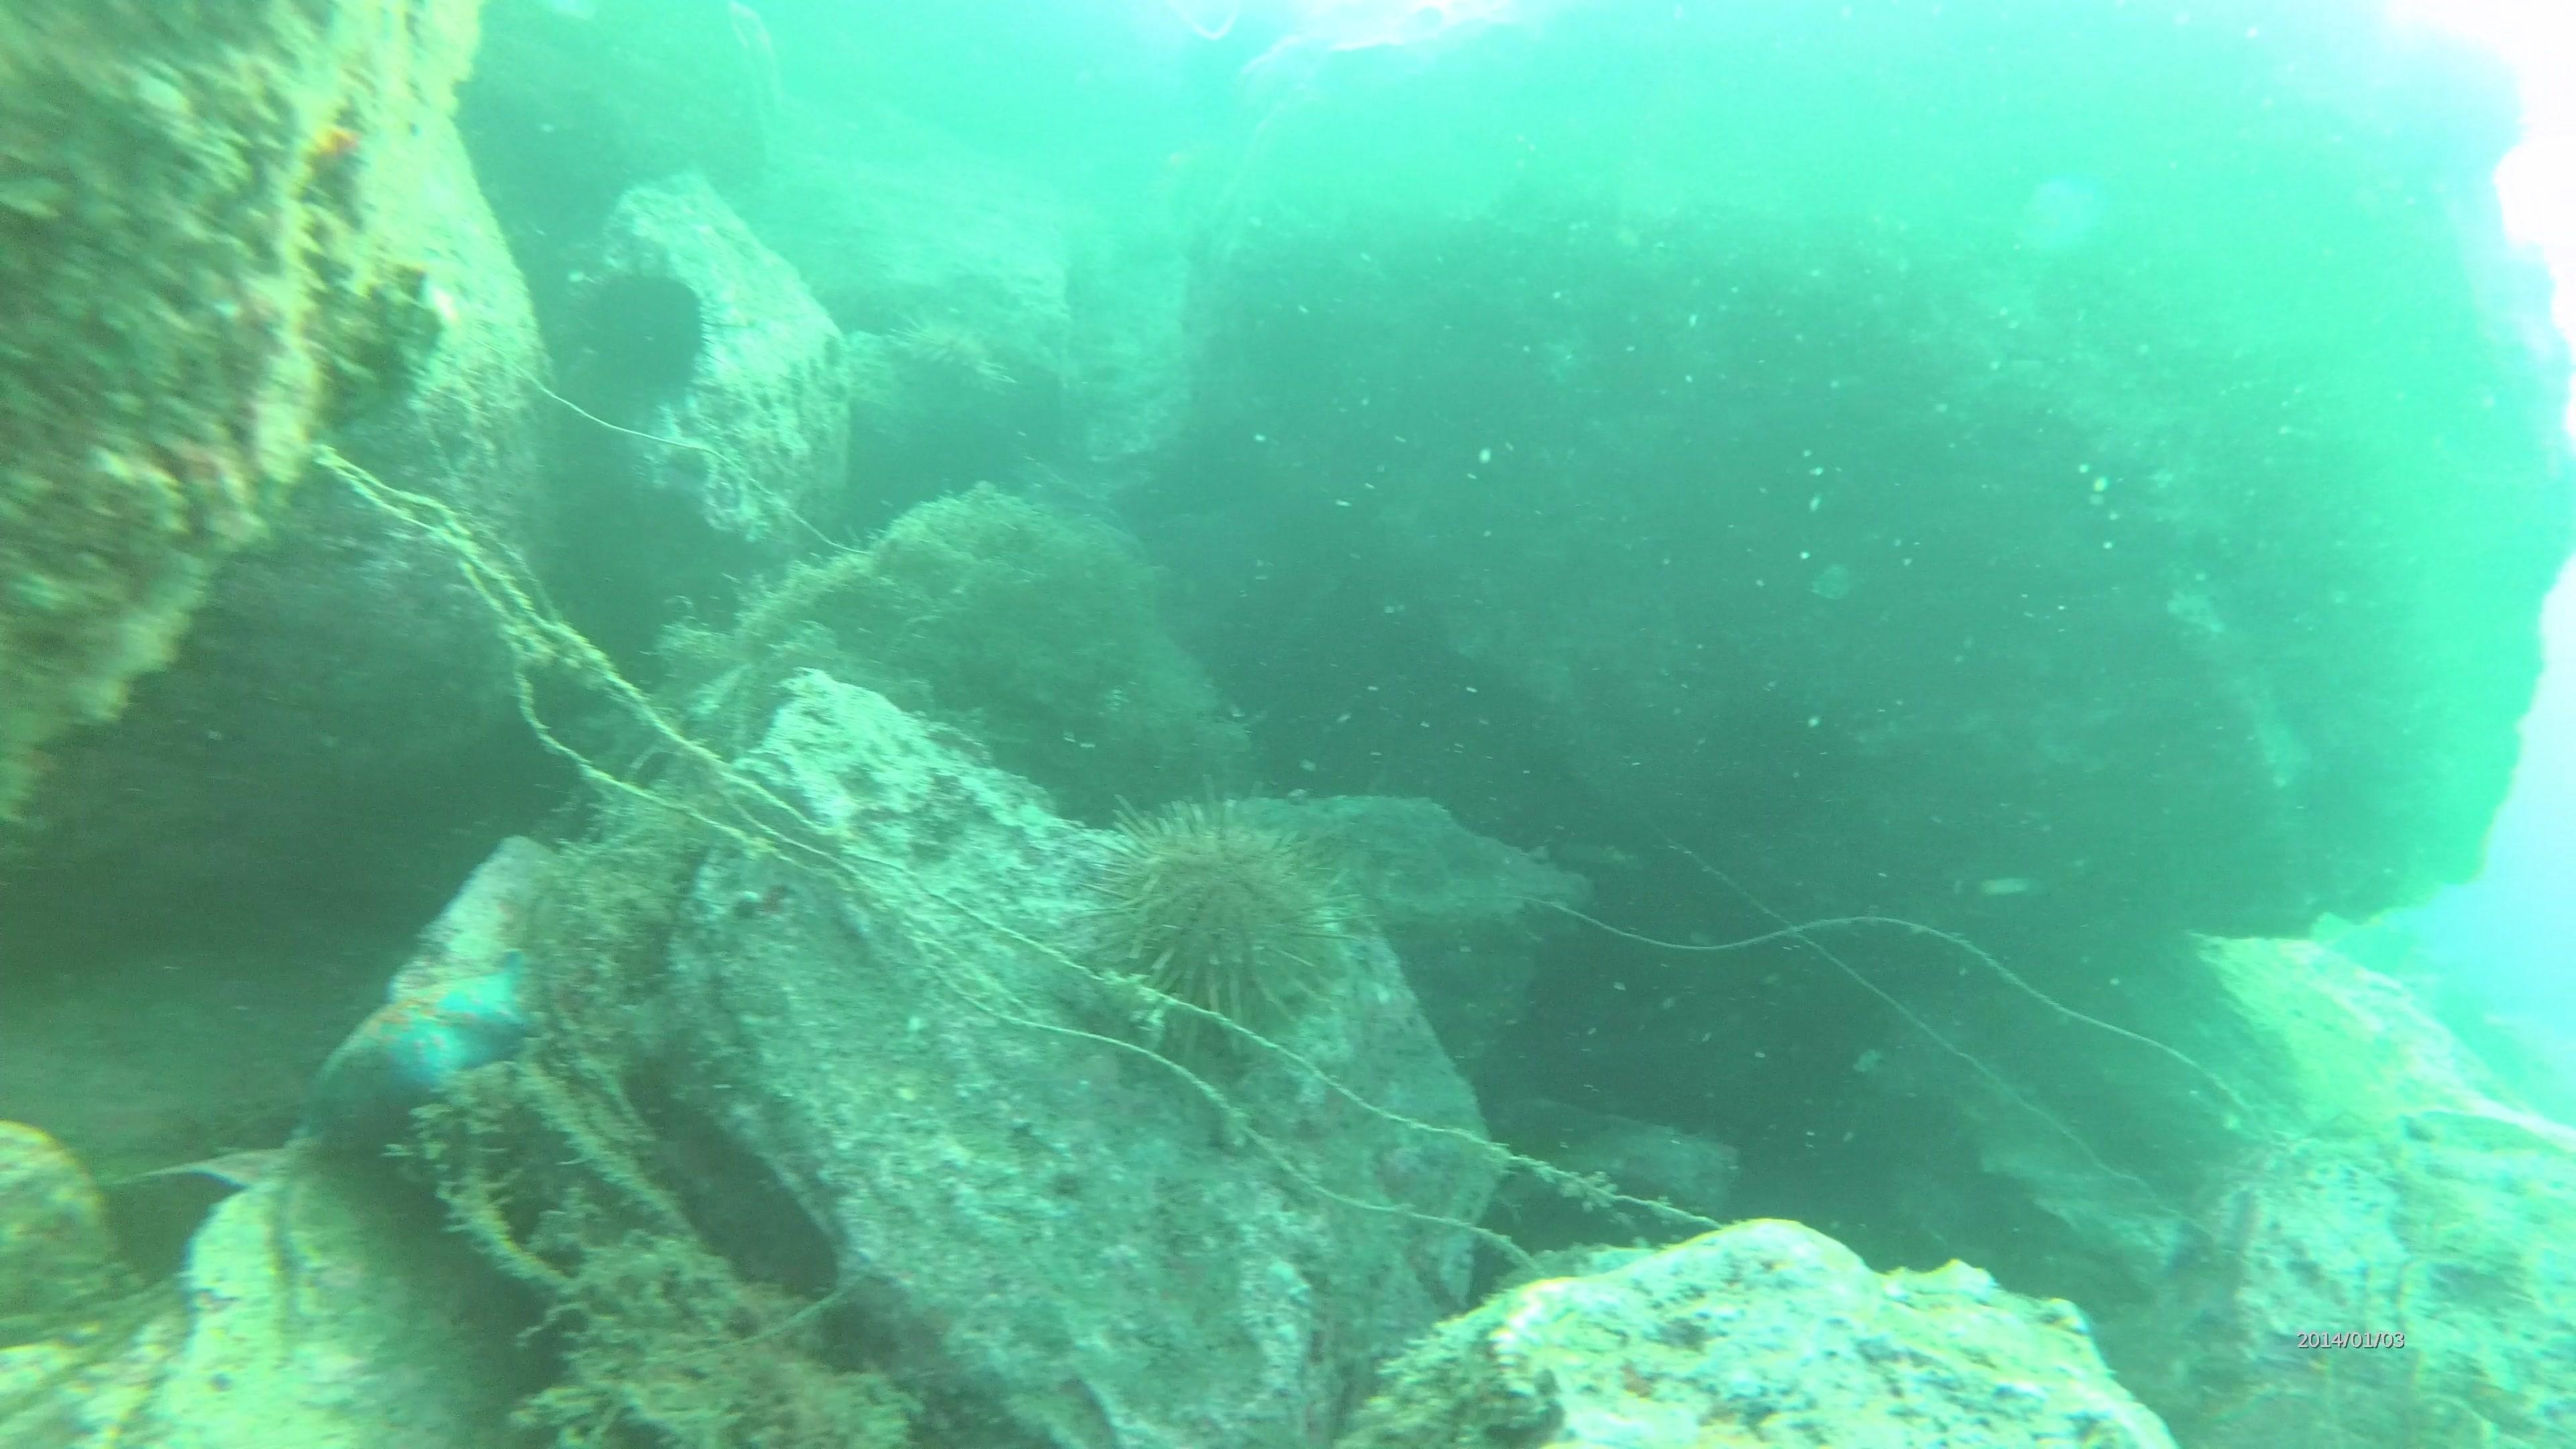echinus: (1083, 791, 1352, 1030), (570, 255, 720, 412)
starfish: (301, 943, 543, 1161)
